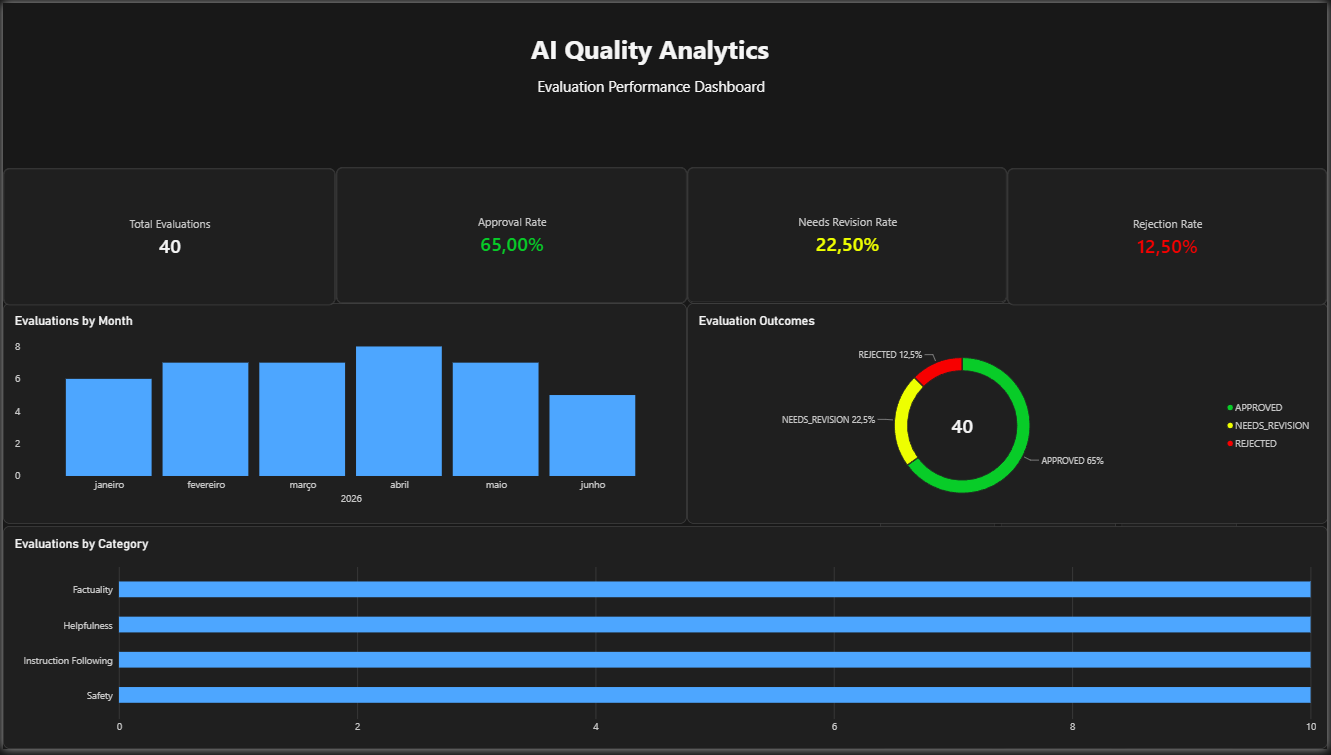

The page's visual inventory and layout, read from the dashboard file:
{"tool":"powerbi","page":{"name":"Página 1","canvas":[1920,1080],"ordinal":0},"visuals":[{"type":"cardVisual","fields":{"Data":["ai_quality_analytics evaluations.Approval Rate","ai_quality_analytics evaluations.Rejection Rate","ai_quality_analytics evaluations.Needs Revision Rate"]},"box":[1271.7,701.9,517.5,379.3],"z":0},{"type":"columnChart","title":"Evaluations by Month","fields":{"Category":["ai_quality_analytics evaluations.evaluated_at.Variação.Hierarquia de datas.Ano","ai_quality_analytics evaluations.evaluated_at.Variação.Hierarquia de datas.Mês"],"Y":["CountNonNull(ai_quality_analytics evaluations.evaluation_id)"]},"box":[0,435.4,991.3,319.7],"z":1000},{"type":"donutChart","title":"Evaluation Outcomes","fields":{"Category":["ai_quality_analytics evaluations.outcome"],"Y":["CountNonNull(ai_quality_analytics evaluations.evaluation_id)"]},"box":[991.6,435.4,928.7,319.7],"z":2000},{"type":"clusteredBarChart","title":"Evaluations by Category","fields":{"Category":["Categories_Dim.category_name"],"Y":["CountNonNull(ai_quality_analytics evaluations.evaluation_id)"]},"box":[0,758,1920,323.3],"z":3000},{"type":"textbox","box":[713.5,40.5,449.3,112.8],"z":4000},{"type":"textbox","box":[584,105.4,710.8,48.2],"z":5000},{"type":"cardVisual","fields":{"Data":["ai_quality_analytics evaluations.Needs Revision Rate"]},"box":[991.6,237.6,464.2,197.8],"z":6000},{"type":"cardVisual","fields":{"Data":["ai_quality_analytics evaluations.Approval Rate"]},"box":[482.1,237.6,509,198.3],"z":7000},{"type":"cardVisual","fields":{"Data":["ai_quality_analytics evaluations.Rejection Rate"]},"box":[1455.8,239,464.2,199.1],"z":8000},{"type":"cardVisual","fields":{"Data":["ai_quality_analytics evaluation_categories.Total Evaluations"]},"box":[0,239,482.1,199.1],"z":9000}]}

Visuals, with their boxes in screenshot pixels (x1, y1, x2, y2), scaled from the page's 1920x1080 canvas onto the 1331x755 screenshot:
cardVisual - ai_quality_analytics evaluations.Approval Rate x ai_quality_analytics evaluations.Rejection Rate: rect(882, 491, 1240, 754)
"Evaluations by Month" columnChart: rect(0, 304, 687, 528)
"Evaluation Outcomes" donutChart: rect(687, 304, 1330, 528)
"Evaluations by Category" clusteredBarChart: rect(0, 530, 1330, 754)
textbox: rect(495, 28, 806, 107)
textbox: rect(405, 74, 898, 107)
cardVisual - ai_quality_analytics evaluations.Needs Revision Rate: rect(687, 166, 1009, 304)
cardVisual - ai_quality_analytics evaluations.Approval Rate: rect(334, 166, 687, 305)
cardVisual - ai_quality_analytics evaluations.Rejection Rate: rect(1009, 167, 1330, 306)
cardVisual - ai_quality_analytics evaluation_categories.Total Evaluations: rect(0, 167, 334, 306)
